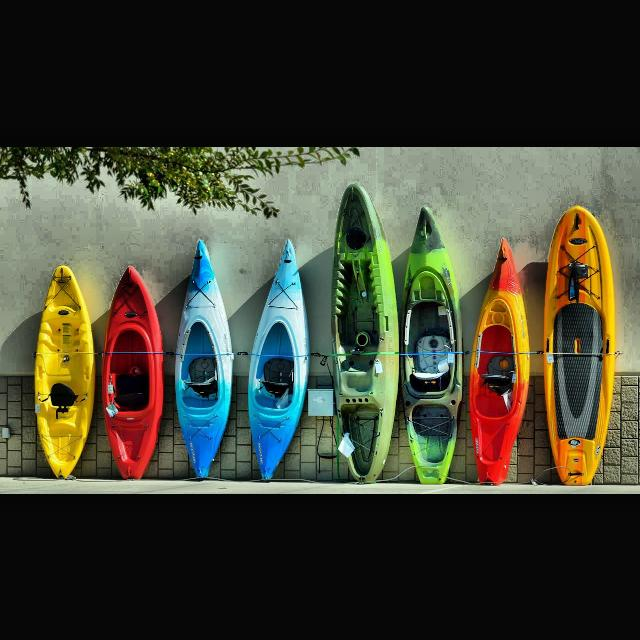kayak: (542, 204, 618, 486), (330, 182, 400, 486), (401, 204, 465, 486), (247, 238, 315, 482), (468, 233, 532, 484), (172, 238, 235, 480), (32, 263, 98, 481), (102, 263, 166, 481)
